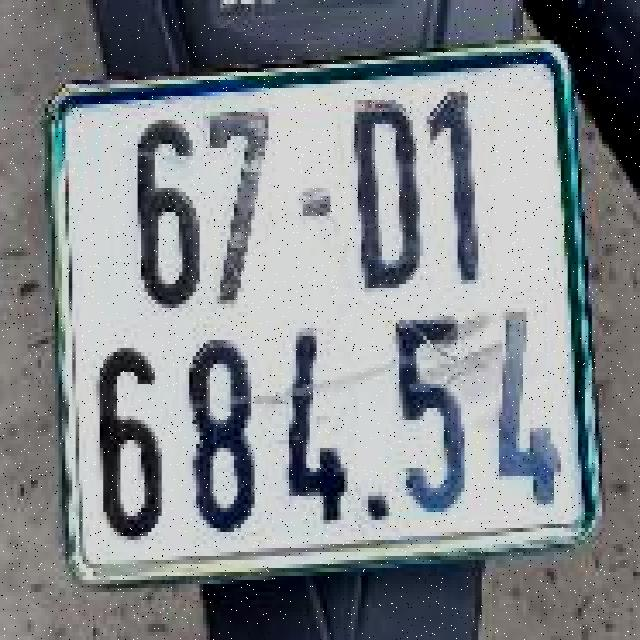1: (435, 80, 497, 292)
4: (487, 300, 576, 516), (268, 324, 354, 544)
5: (373, 306, 473, 522)
6: (90, 318, 168, 546), (131, 118, 206, 318)
7: (203, 104, 289, 316)
8: (184, 324, 267, 552)
D: (330, 78, 437, 302)
